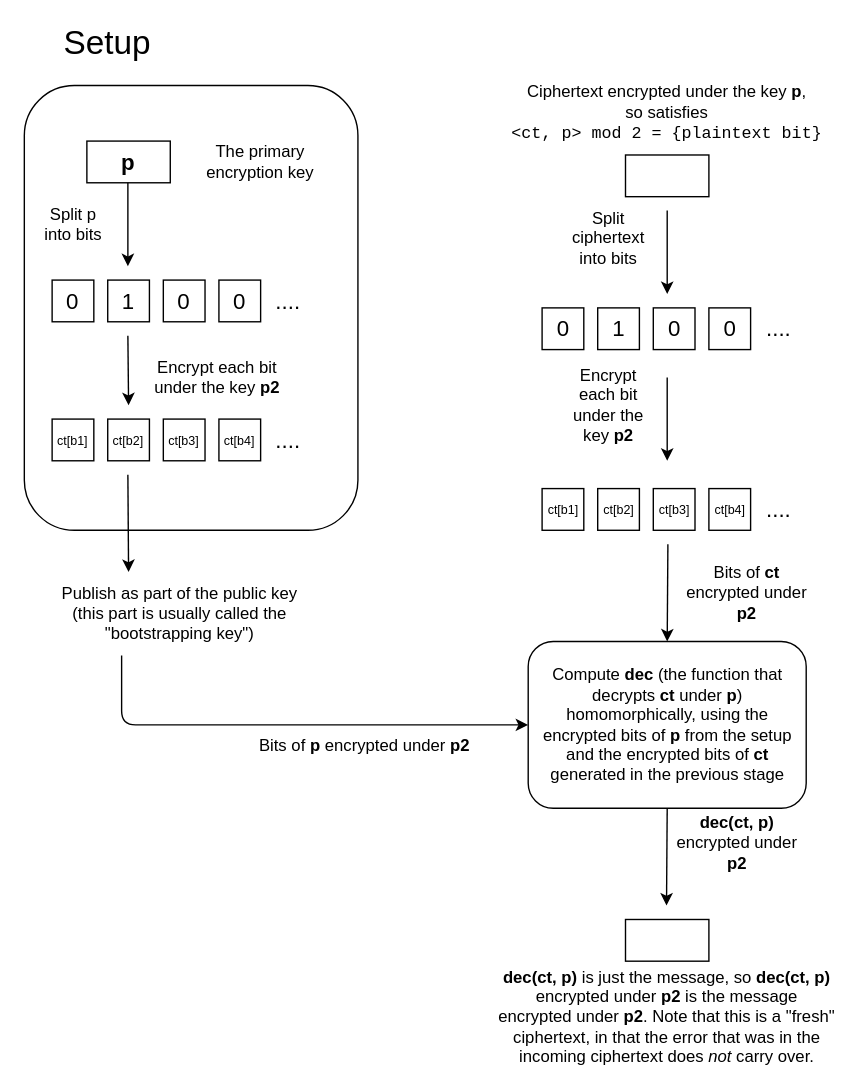
This 862x1091 diagram has some shape labels left out. The centre of each missing label's shape, as x and y in pixels:
ct: point 666,175
ct2: point 666,939
